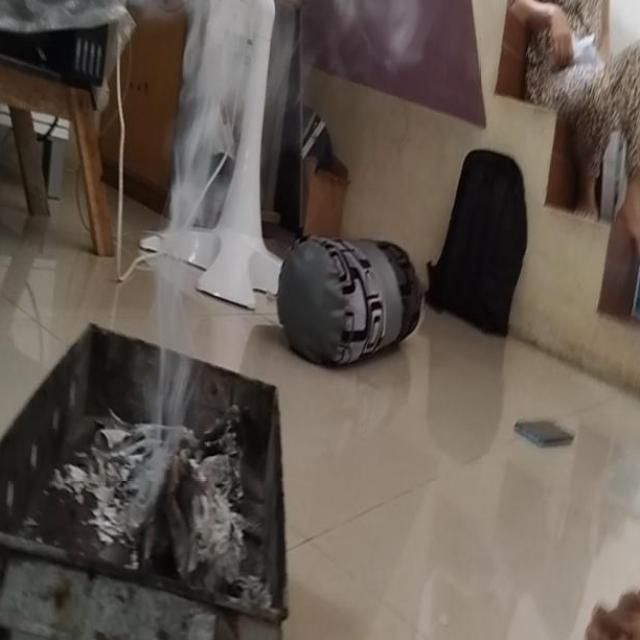fire: (167, 0, 240, 273), (142, 261, 202, 456), (310, 0, 440, 72)
